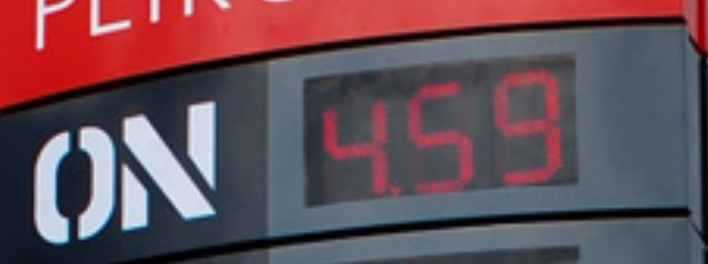digits: (490, 68, 567, 186), (317, 90, 395, 197), (405, 82, 478, 195)
